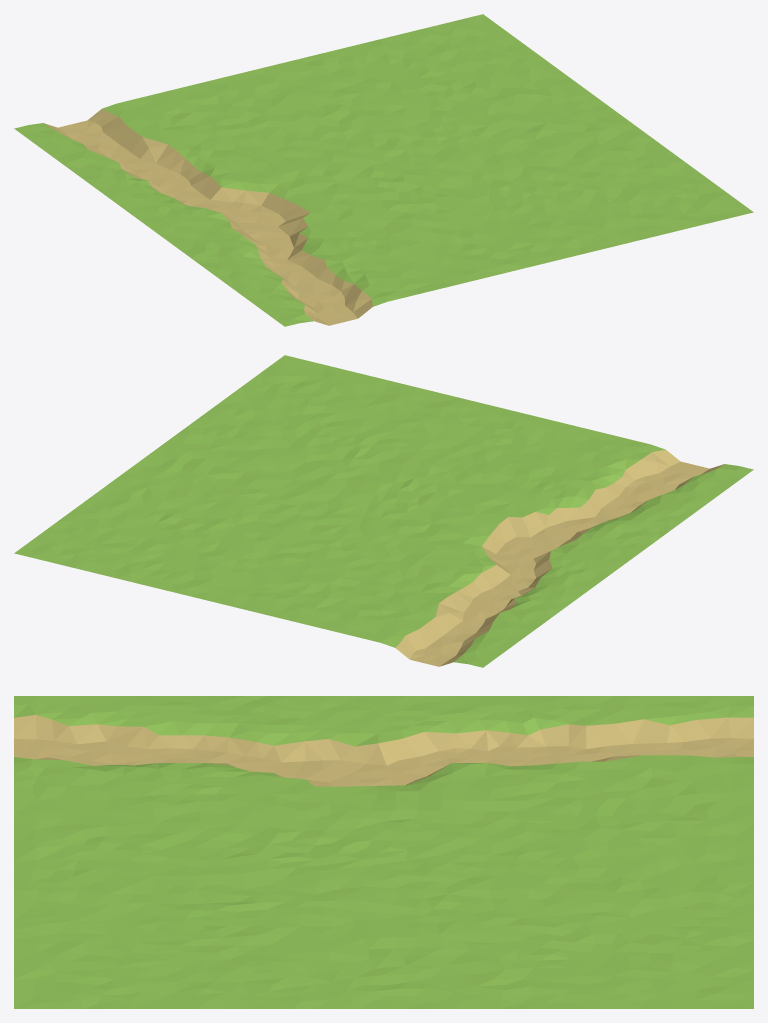
File: river_l_a_01.glb
The picture shows the model from 3 angles, top to bottom: view 1: azimuth 30°, elevation 25°; view 2: azimuth 150°, elevation 25°; view 3: azimuth 270°, elevation 25°; orthographic projection. The views are drawn at different scales.
Visible parts, largest first — view 1: CPT_River_L_a_01; view 2: CPT_River_L_a_01; view 3: CPT_River_L_a_01.
Boxes of the visible parts, x1,y1,x2,y2 form: CPT_River_L_a_01: (14,14,753,326); CPT_River_L_a_01: (14,355,753,667); CPT_River_L_a_01: (14,696,753,1008).
Size of the model in its own units: 100 by 2.2 by 100.
1 material, 1 textured.
